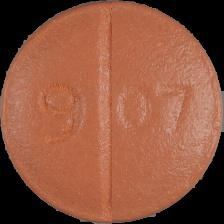0179-0071: (0, 0, 224, 224)
